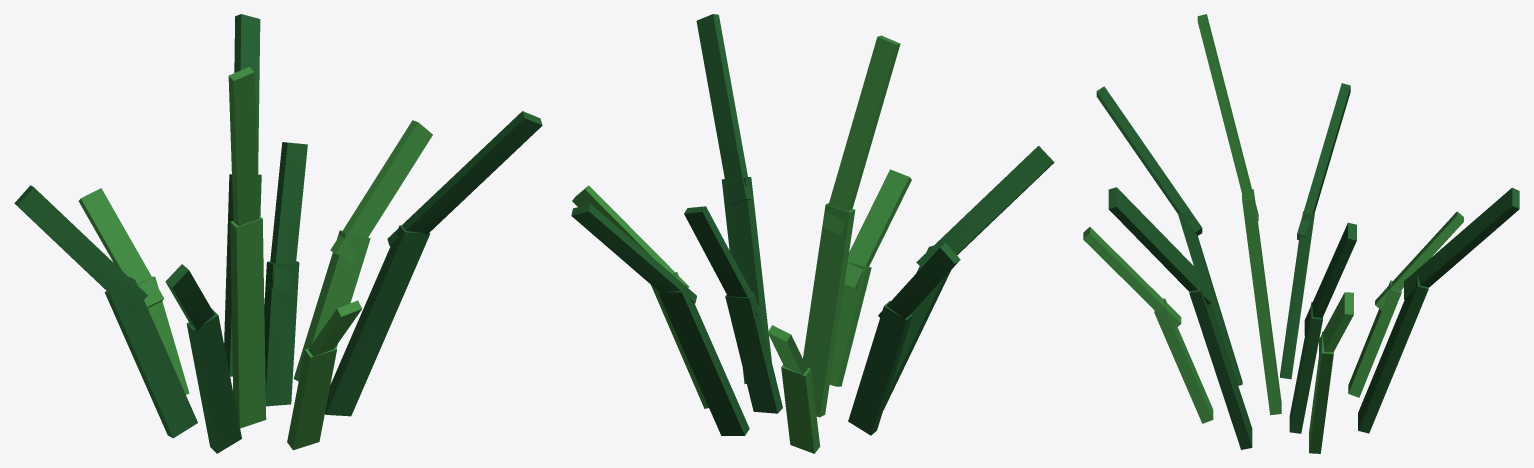
The model's file is Nature__tall_grass.glb.
3 views of the same model, side by side, from view 1: azimuth 30°, elevation 25°; view 2: azimuth 150°, elevation 25°; view 3: azimuth 270°, elevation 25° (orthographic). The views are drawn at different scales.
Visible parts, largest first — view 1: tall_grass_mesh; view 2: tall_grass_mesh; view 3: tall_grass_mesh.
Boxes of the visible parts, bbox=[...] form: tall_grass_mesh: bbox=[14, 14, 542, 453]; tall_grass_mesh: bbox=[571, 14, 1054, 453]; tall_grass_mesh: bbox=[1083, 14, 1519, 453].
Bounding box in the file's own units: 0.4721 × 0.424 × 0.4482.
